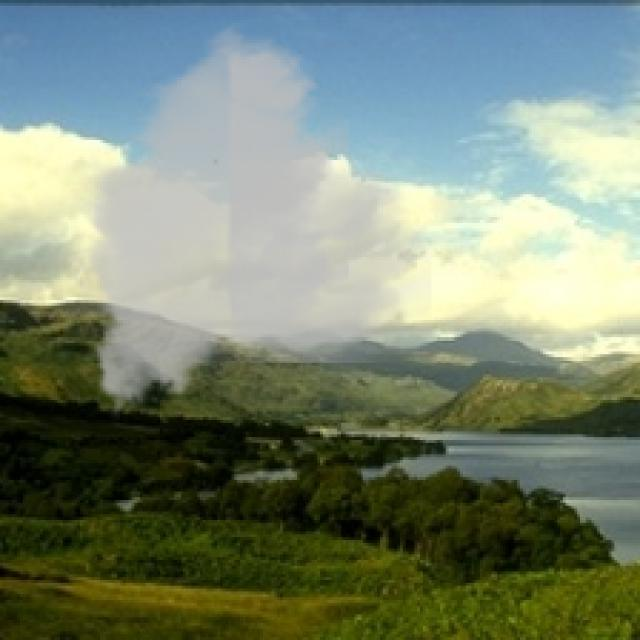smoke: (71, 14, 432, 426)
